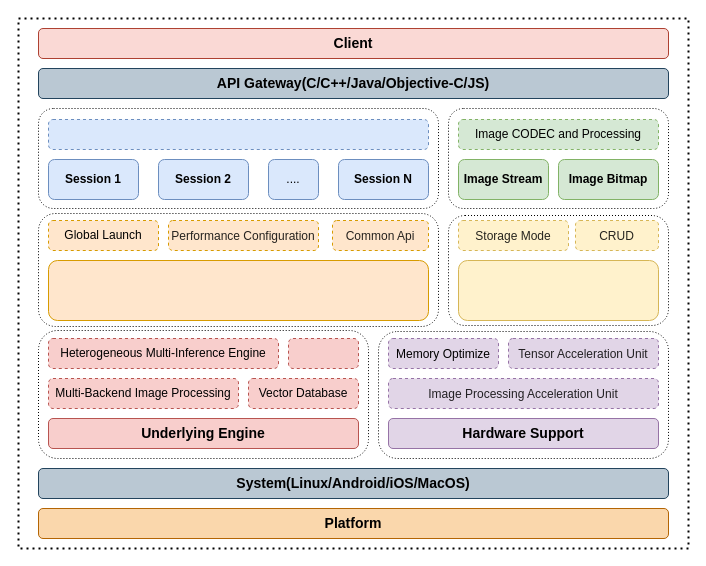
Some shapes in this 706 by 566 pixel diagram are drawn without their labels. The centre of each missing label's shape, as x and y in pixels:
"Abstract" goes at [323,353].
"App Context" goes at [238,290].
"Face Recognition Algorithm Function" goes at [238,134].
"Feature Hub" goes at [558,290].
